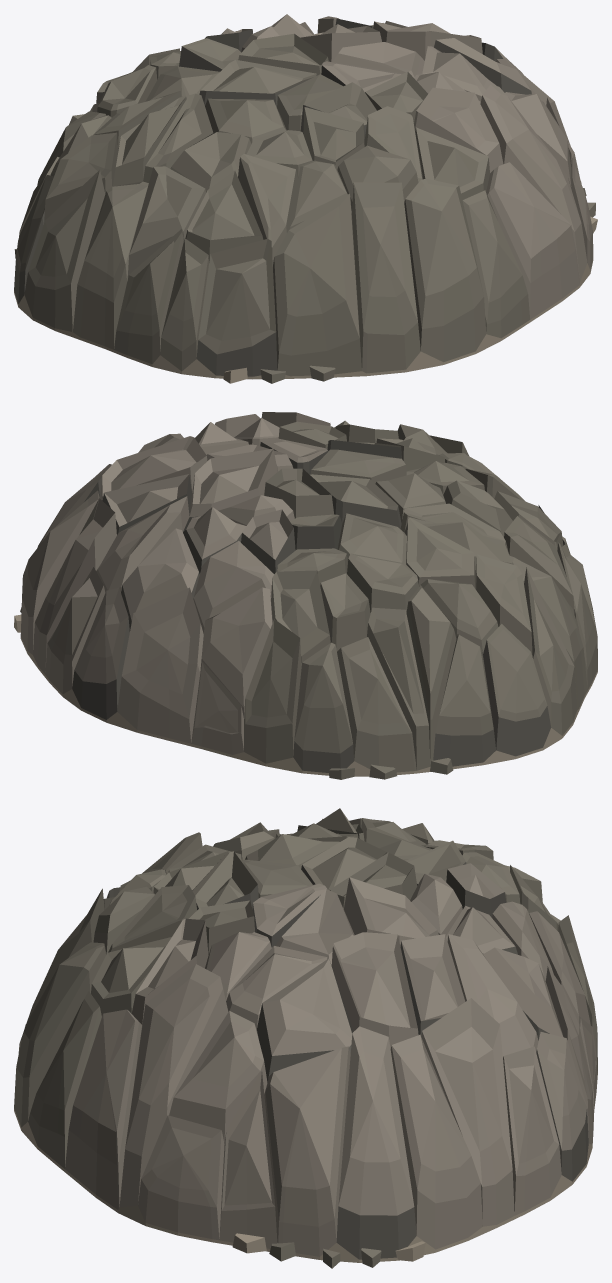
The picture shows the model from 3 angles, top to bottom: view 1: azimuth 30°, elevation 25°; view 2: azimuth 150°, elevation 25°; view 3: azimuth 270°, elevation 25°; orthographic projection. The views are drawn at different scales.
Visible parts, largest first — view 1: single_welded_bulbous_dome_coarse_fractured_summit_and_flank, subordinate_rooted_contact_fragment_clusters.001; view 2: single_welded_bulbous_dome_coarse_fractured_summit_and_flank, subordinate_rooted_contact_fragment_clusters.001; view 3: single_welded_bulbous_dome_coarse_fractured_summit_and_flank, subordinate_rooted_contact_fragment_clusters.001, subordinate_rooted_contact_fragment_clusters.
Boxes of the visible parts, left/top/right/bottom form: single_welded_bulbous_dome_coarse_fractured_summit_and_flank: left=14, top=14, right=593, bottom=379; subordinate_rooted_contact_fragment_clusters.001: left=14, top=188, right=595, bottom=383; single_welded_bulbous_dome_coarse_fractured_summit_and_flank: left=20, top=412, right=597, bottom=776; subordinate_rooted_contact_fragment_clusters.001: left=20, top=607, right=453, bottom=779; single_welded_bulbous_dome_coarse_fractured_summit_and_flank: left=14, top=808, right=597, bottom=1262; subordinate_rooted_contact_fragment_clusters.001: left=269, top=1242, right=381, bottom=1268; subordinate_rooted_contact_fragment_clusters: left=232, top=1233, right=425, bottom=1261.
Bounding box in the file's own units: 125 × 48.02 × 101.
